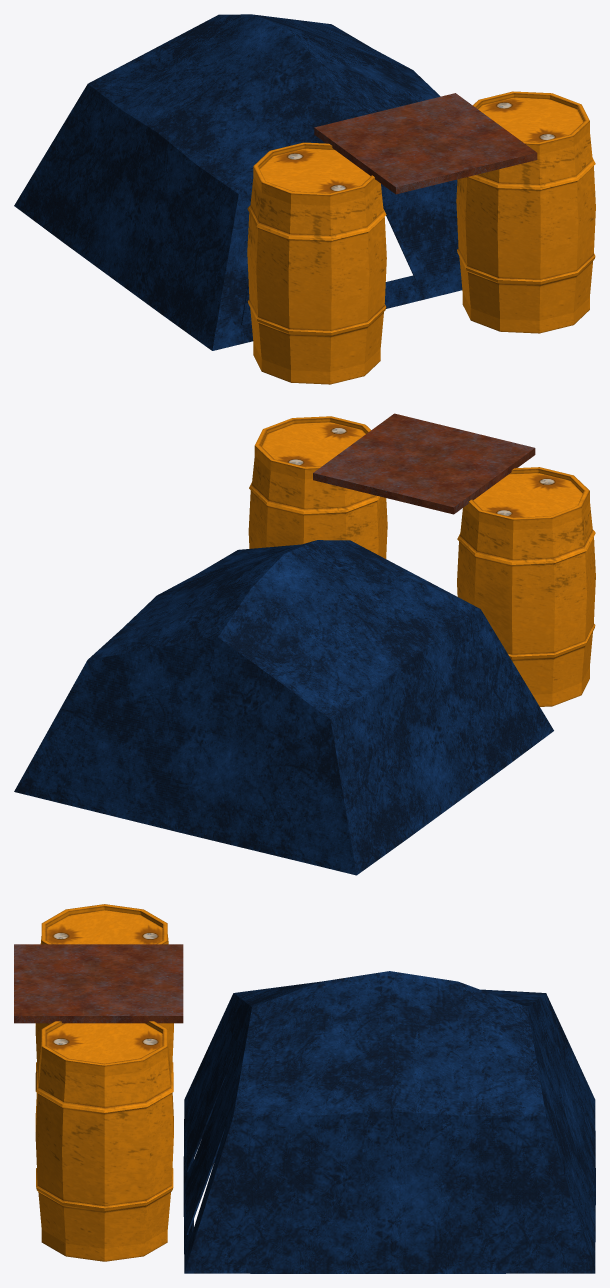
The model's file is ENV_shanty_tent_shelter.fbx.
3 renders of one model, top to bottom at view 1: azimuth 30°, elevation 25°; view 2: azimuth 150°, elevation 25°; view 3: azimuth 270°, elevation 25°, orthographic. The views are drawn at different scales.
Parts seen in each view (by area): view 1: ENV_standard_panel_1; view 2: ENV_standard_panel_1; view 3: ENV_standard_panel_1.
Boxes of the visible parts, left/top/right/bottom form: ENV_standard_panel_1: left=14, top=14, right=595, bottom=384; ENV_standard_panel_1: left=14, top=413, right=595, bottom=875; ENV_standard_panel_1: left=14, top=904, right=595, bottom=1273.
Bounding box in the file's own units: 60.47 × 34.88 × 85.15.
Materials: 3 (3 with a texture image).
